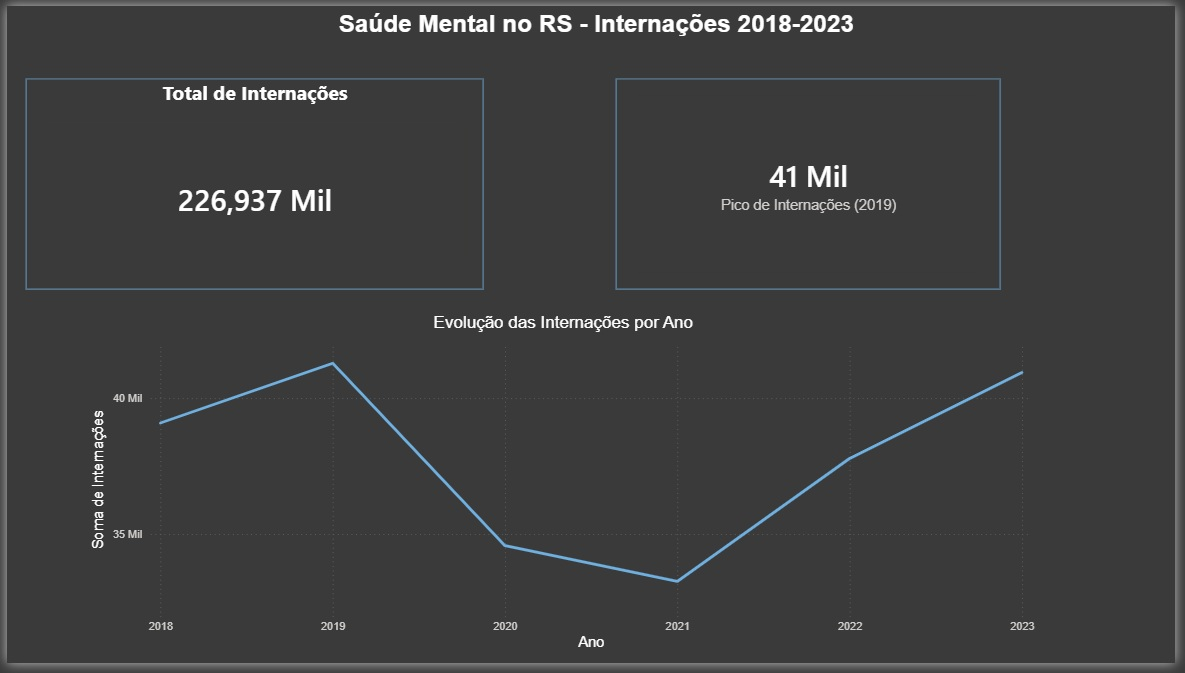

Layout of this report page (visuals, bound fields, positions):
{"tool":"powerbi","page":{"name":"Visão Geral","canvas":[1280,720],"ordinal":0},"visuals":[{"type":"cardVisual","title":"Total de Internações","fields":{"Data":["Sum(por_municipio_ano1.Total)"]},"box":[20.5,79.5,501.4,231.5],"z":0},{"type":"lineChart","title":"Evolução das Internações por Ano","fields":{"Category":["resumo_anual.Ano"],"Y":["Sum(resumo_anual.Internações)"]},"box":[87.7,335.6,1043.8,375.3],"z":1000},{"type":"cardVisual","fields":{"Data":["Max(resumo_anual.Internações)"]},"box":[667.1,79.5,421.9,231.5],"z":2000},{"type":"textbox","box":[12.3,0,1267.1,50.7],"z":3000}]}

Visuals, with their boxes in screenshot pixels (x1, y1, x2, y2), scaled from the page's 1280x720 canvas onto the 1185x673 screenshot:
"Total de Internações" cardVisual: box(19, 74, 483, 291)
"Evolução das Internações por Ano" lineChart: box(81, 314, 1048, 664)
cardVisual - Max(resumo_anual.Internações): box(618, 74, 1008, 291)
textbox: box(11, 0, 1184, 47)
